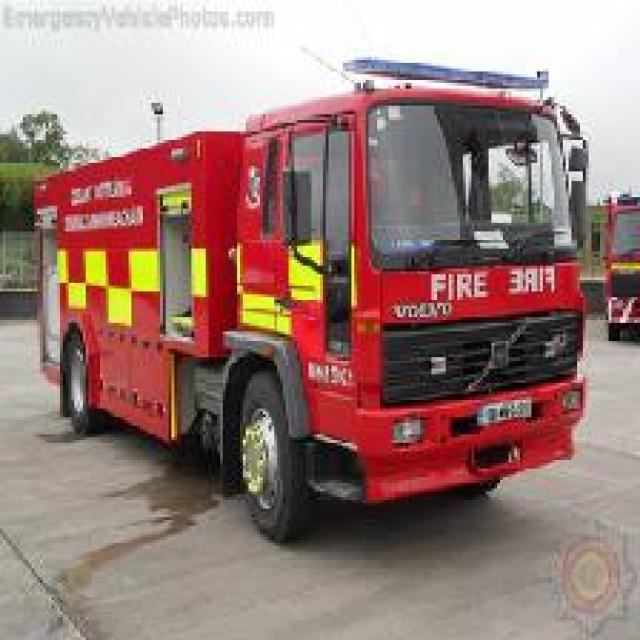Fire-truck: (29, 51, 592, 543), (600, 189, 637, 340)
